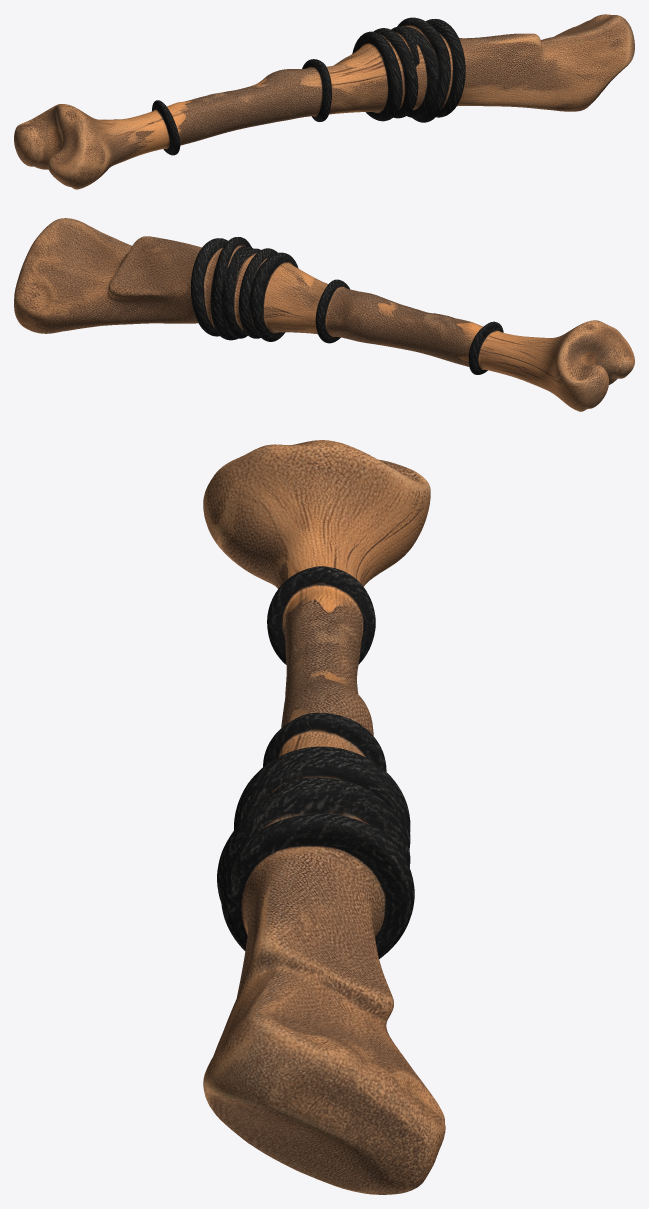
Rendered from BoneClub.glb.
3 renders of one model, top to bottom at view 1: azimuth 30°, elevation 25°; view 2: azimuth 150°, elevation 25°; view 3: azimuth 270°, elevation 25°, orthographic. The views are drawn at different scales.
Size of the model in its own units: 1.9 by 0.3779 by 0.3391.
1 material, 1 textured.
